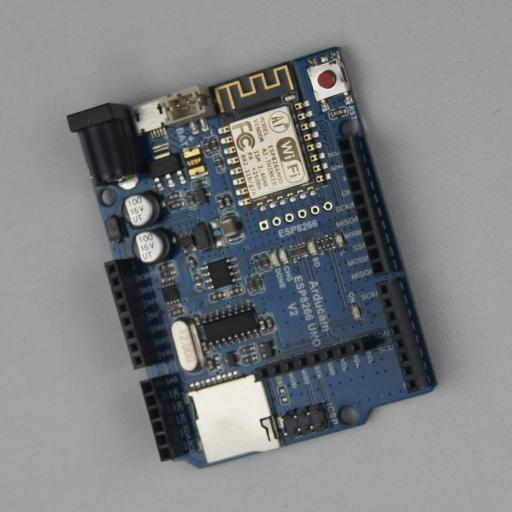Arduino Uno Camera Shield: (66, 46, 442, 468)
